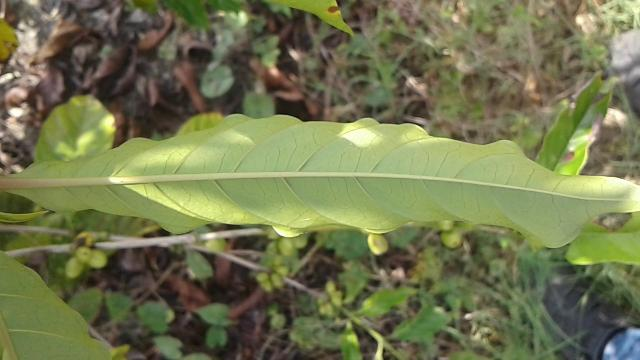healthy: (0, 108, 640, 250)
